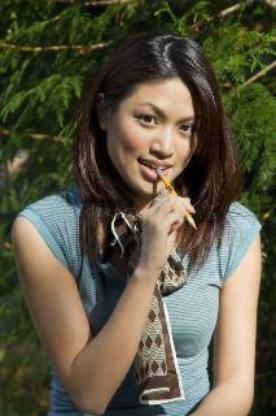person: (0, 29, 270, 416)
